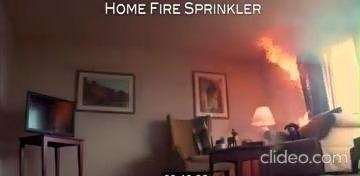fire: (254, 29, 314, 92)
